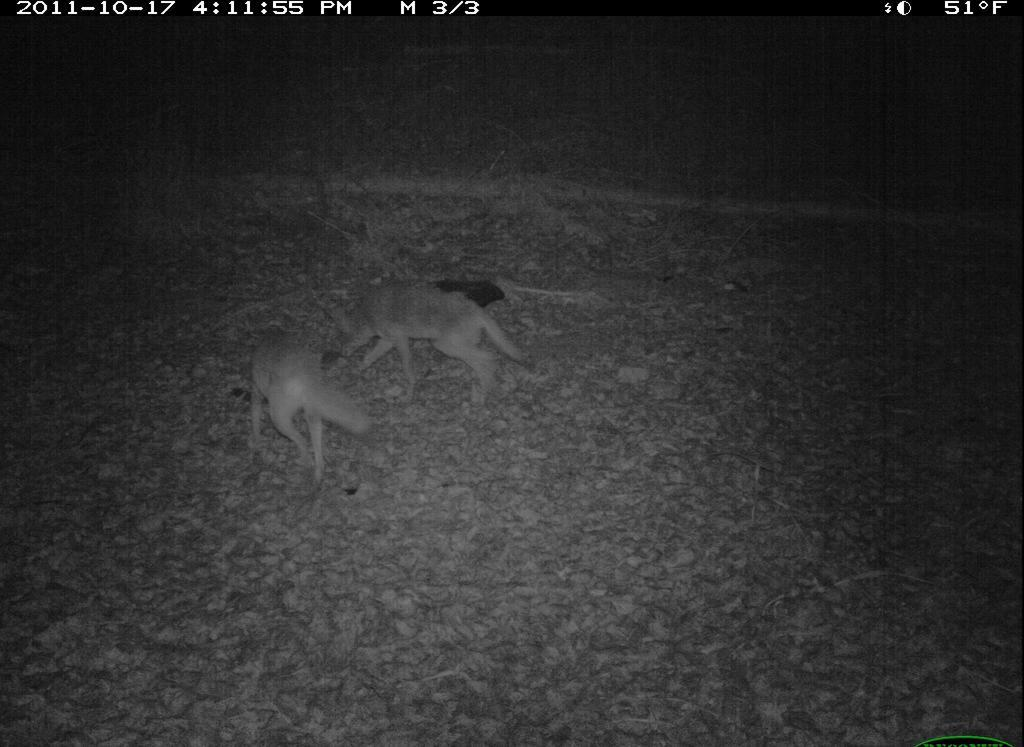coyote: (322, 274, 534, 413), (233, 327, 379, 477)
